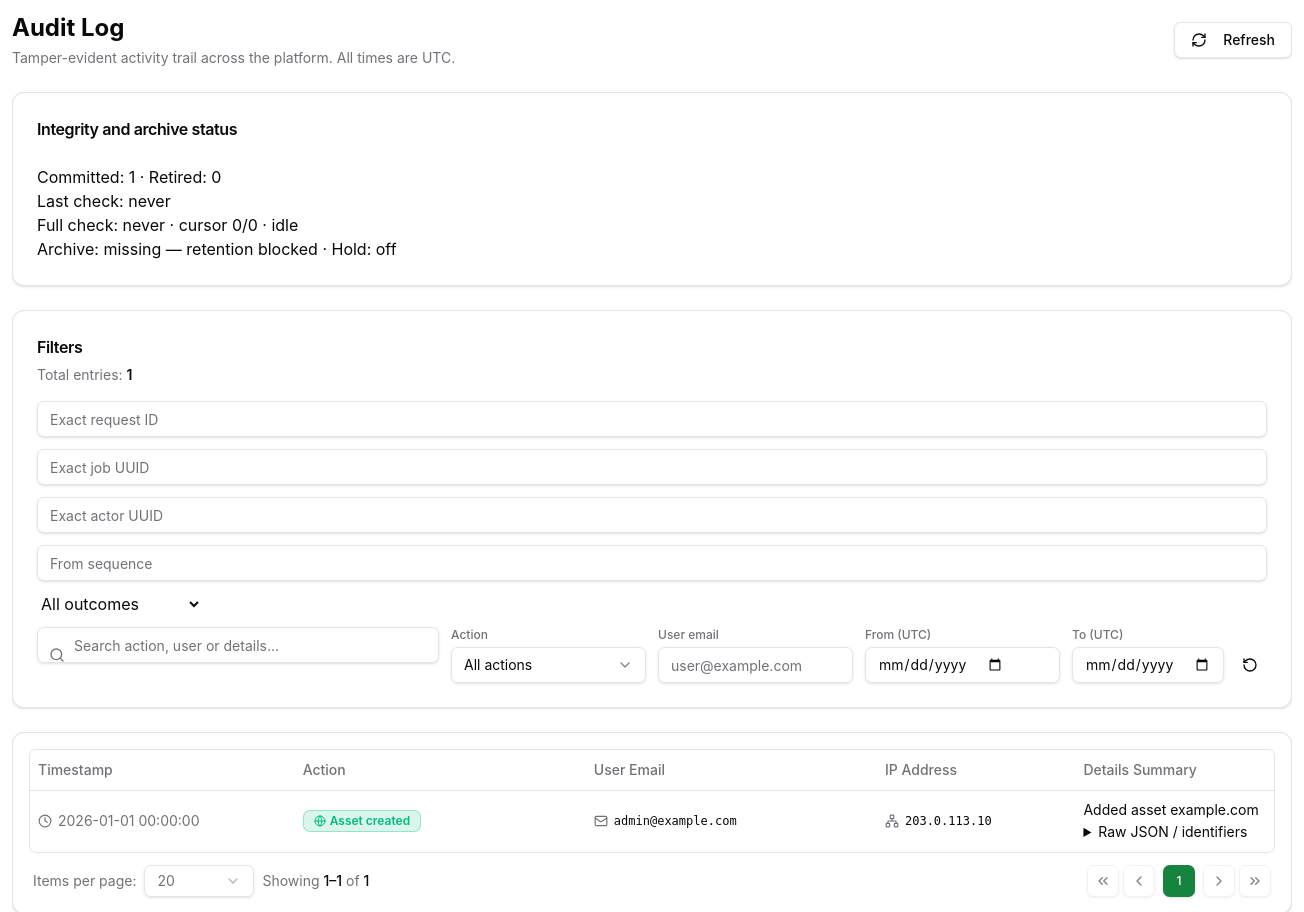
Test: AuditPage › resets entered filters and reloads unfiltered audit data
Expected: the text "Added asset example.com" is shown, [1084,800,1259,818]
Type "suspicious" into the field named "Search audit entries" at coordinates (238, 645), box [37,627,439,663]
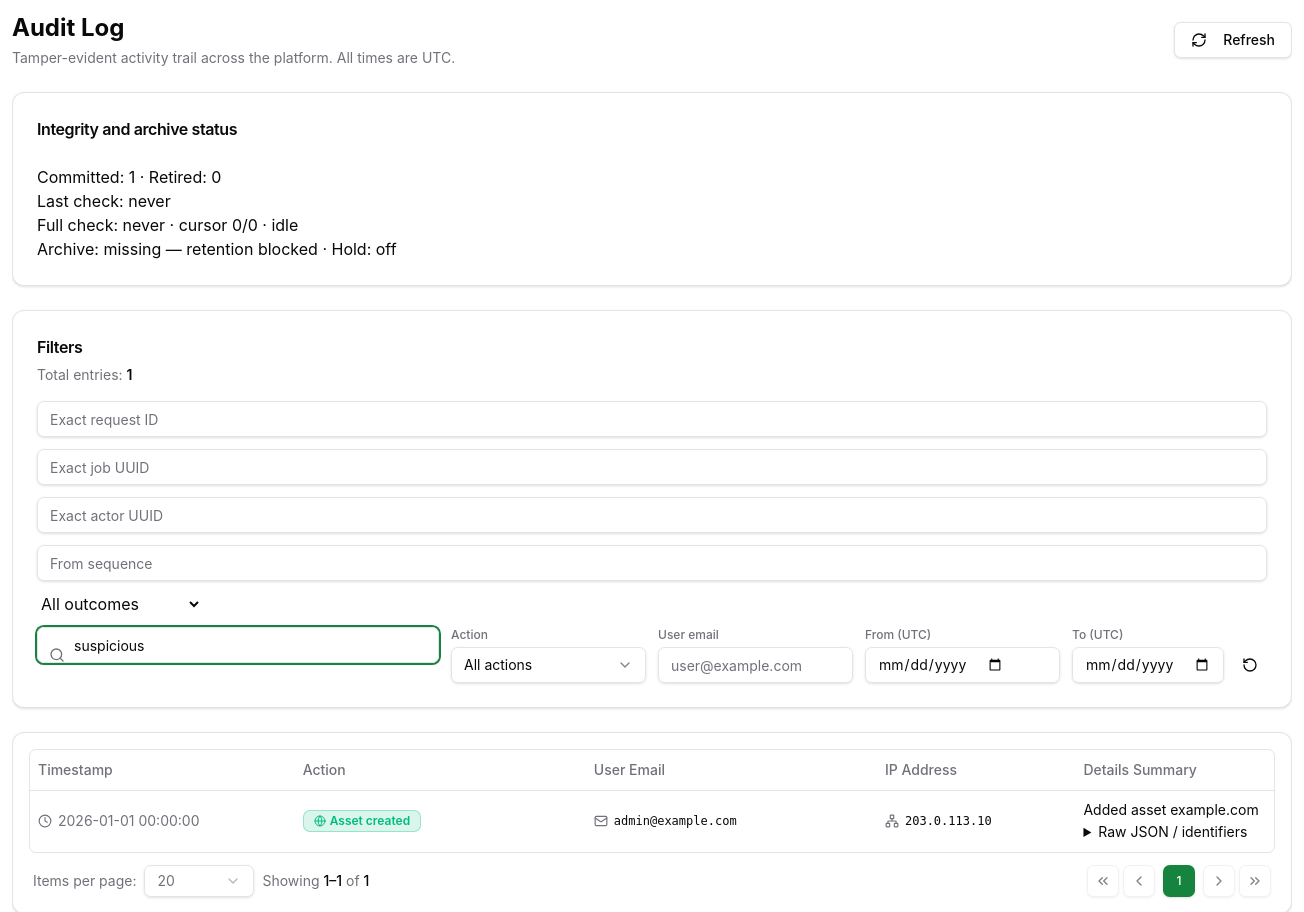
Click the button named "Reset filters" at coordinates (1250, 665), box [1232,647,1267,683]
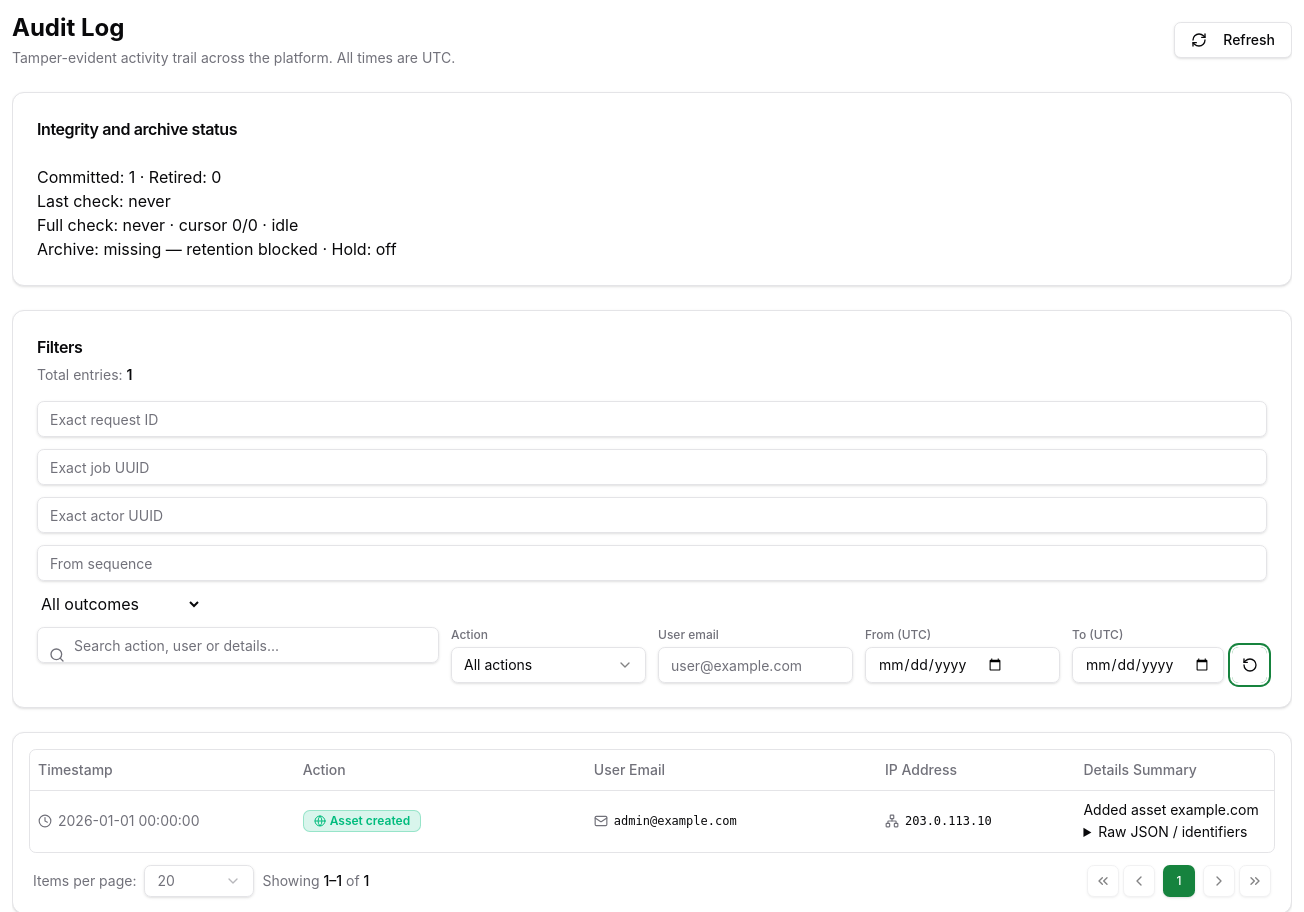
Expected: the field named "Search audit entries" is empty, [37,627,439,663]
